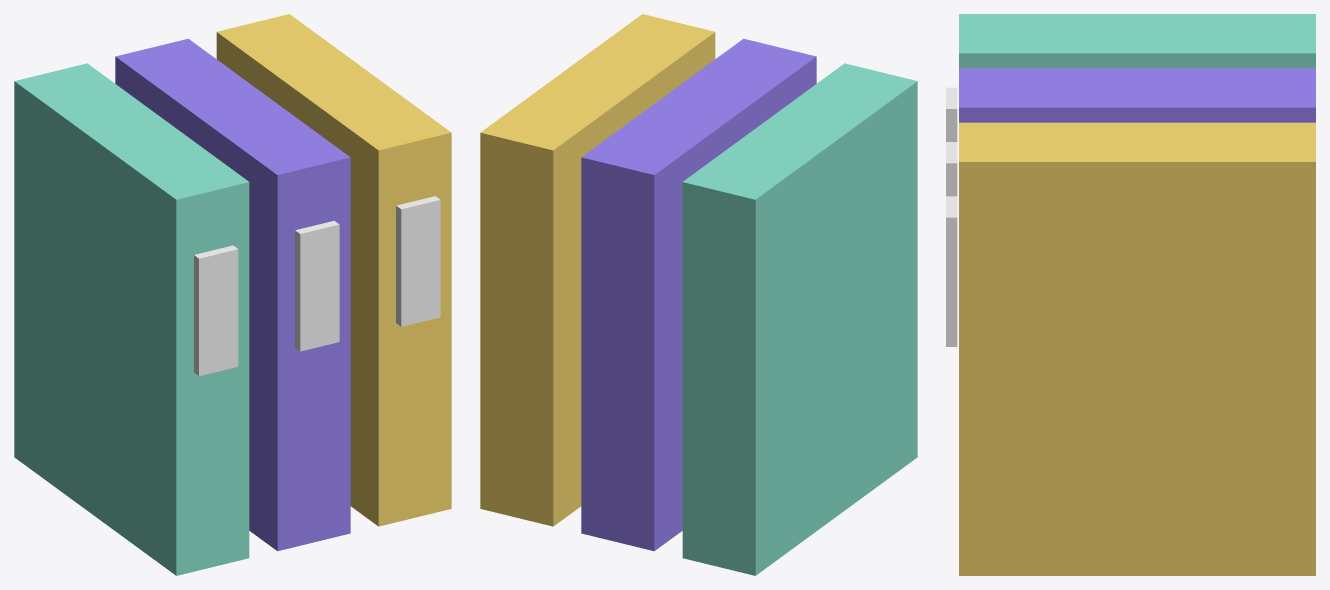
The picture shows the model from 3 angles, left to right: view 1: azimuth 30°, elevation 25°; view 2: azimuth 150°, elevation 25°; view 3: azimuth 270°, elevation 25°; orthographic projection. The views are drawn at different scales.
Visible parts, largest first — view 1: File, File.001, File.002, Spine label.001, Spine label.002, Spine label; view 2: File, File.001, File.002; view 3: File.002, File, File.001, Spine label.002, Spine label, Spine label.001.
Part boxes in pixels (bbox=[...]): File: bbox=[14, 63, 249, 575]; File.001: bbox=[115, 38, 350, 551]; File.002: bbox=[216, 14, 451, 526]; Spine label.001: bbox=[295, 220, 339, 351]; Spine label.002: bbox=[396, 196, 440, 326]; Spine label: bbox=[194, 245, 238, 376]; File: bbox=[682, 63, 917, 575]; File.001: bbox=[581, 38, 816, 551]; File.002: bbox=[480, 14, 715, 526]; File.002: bbox=[959, 122, 1315, 575]; File: bbox=[959, 14, 1315, 68]; File.001: bbox=[959, 68, 1315, 122]; Spine label.002: bbox=[946, 196, 957, 346]; Spine label: bbox=[946, 87, 957, 141]; Spine label.001: bbox=[946, 142, 957, 196].
Bounding box in the file's own units: 0.245 × 0.32 × 0.259.
Materials: 1 (1 with a texture image).
